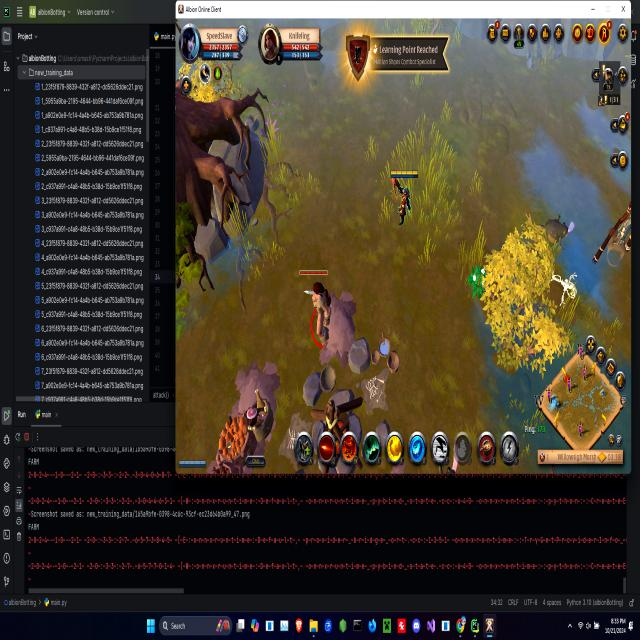hide: (462, 259, 496, 308)
ore: (292, 262, 340, 349)
red: (387, 164, 423, 226), (178, 455, 207, 471)
